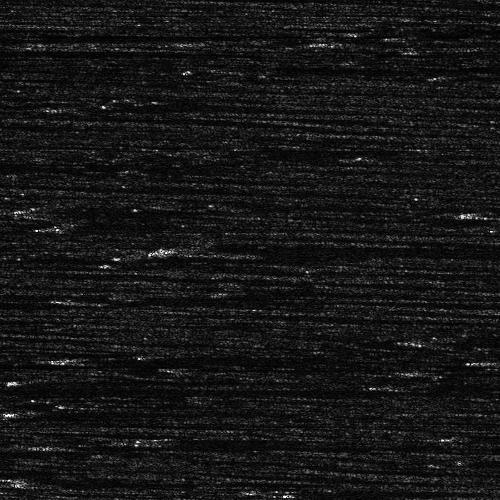object: (280, 35, 385, 50), (432, 208, 500, 219), (0, 205, 65, 216), (453, 355, 500, 368), (156, 248, 239, 255), (383, 366, 466, 373), (41, 355, 104, 364), (339, 380, 412, 387), (345, 382, 418, 389), (112, 435, 185, 442), (242, 488, 315, 495), (0, 441, 70, 448), (393, 338, 456, 343), (208, 67, 261, 72), (57, 298, 110, 303), (8, 409, 61, 414), (0, 253, 32, 260), (8, 378, 39, 383), (0, 478, 39, 481), (0, 45, 16, 52)
shadow: (72, 355, 399, 364), (28, 441, 422, 448), (332, 35, 500, 50), (0, 383, 500, 388), (24, 378, 500, 383), (197, 248, 500, 255), (28, 205, 187, 216), (149, 435, 389, 442), (0, 359, 328, 364), (279, 488, 500, 495), (0, 45, 216, 52), (34, 409, 270, 414), (376, 380, 500, 387), (235, 67, 405, 72), (382, 382, 500, 389), (83, 298, 245, 303), (425, 366, 500, 373), (19, 478, 173, 481), (0, 253, 64, 260), (0, 298, 45, 307), (425, 338, 500, 343), (0, 468, 22, 479)
